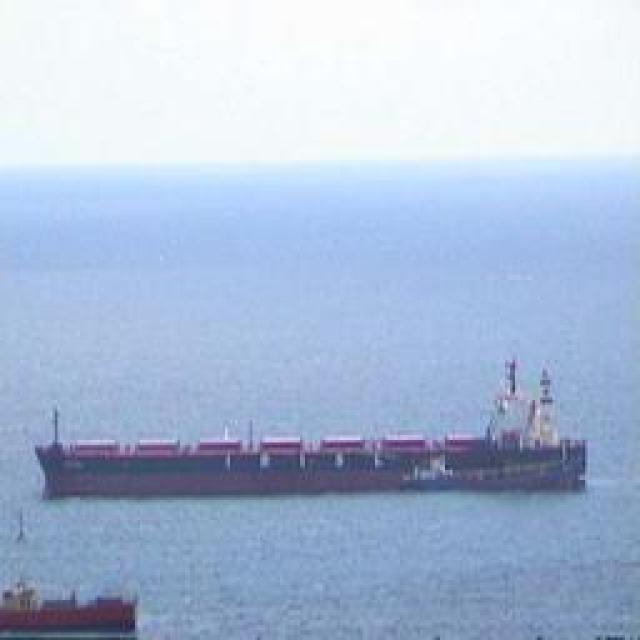Ship: (26, 425, 591, 498)
